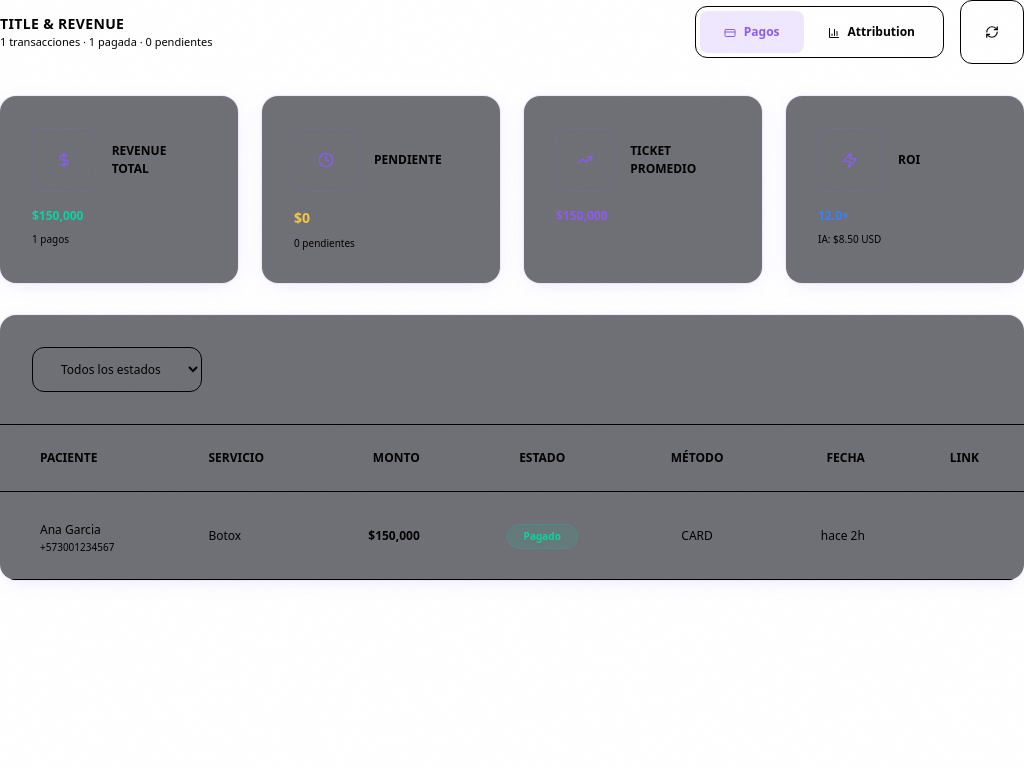
it: PagosPage › displays day-of-week chart in attribution tab
Expected: the text "Ana Garcia" is shown, [40, 521, 101, 538]
Click the button "Attribution".
click(871, 32)  # box [804, 11, 939, 53]
(page scrolled)
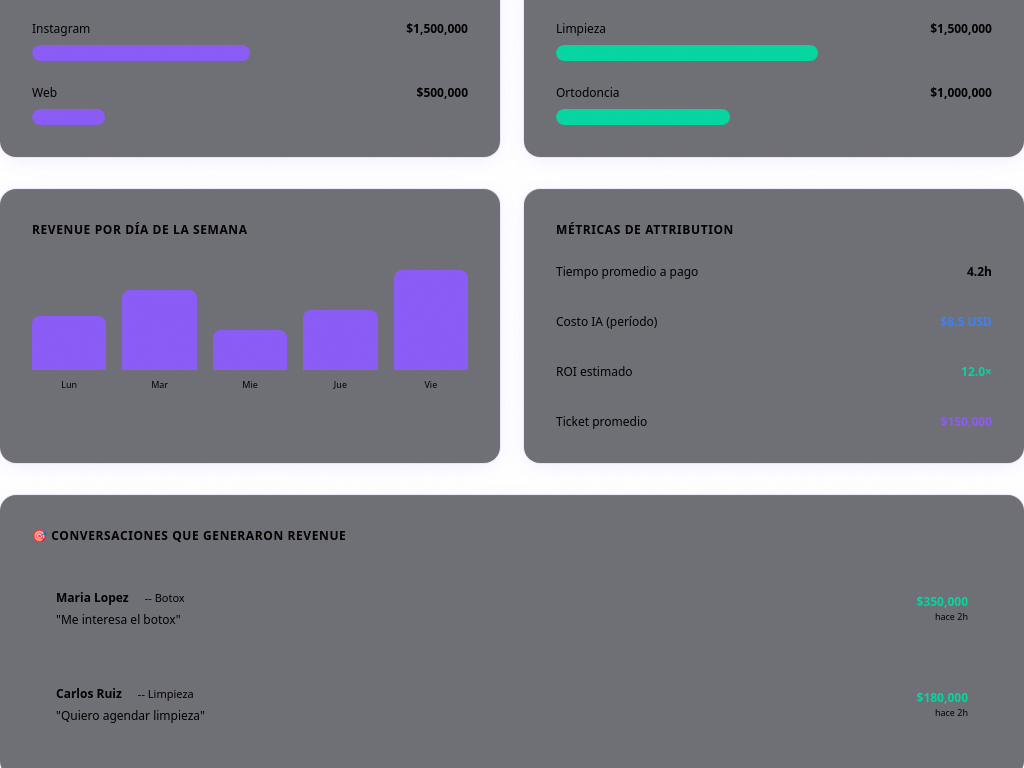
Result: the heading "Revenue por Día de la Semana" is shown at [32, 221, 248, 238]
Result: the text "Lun" is shown at [61, 378, 77, 391]
Result: the text "Vie" is shown at [424, 378, 437, 391]
